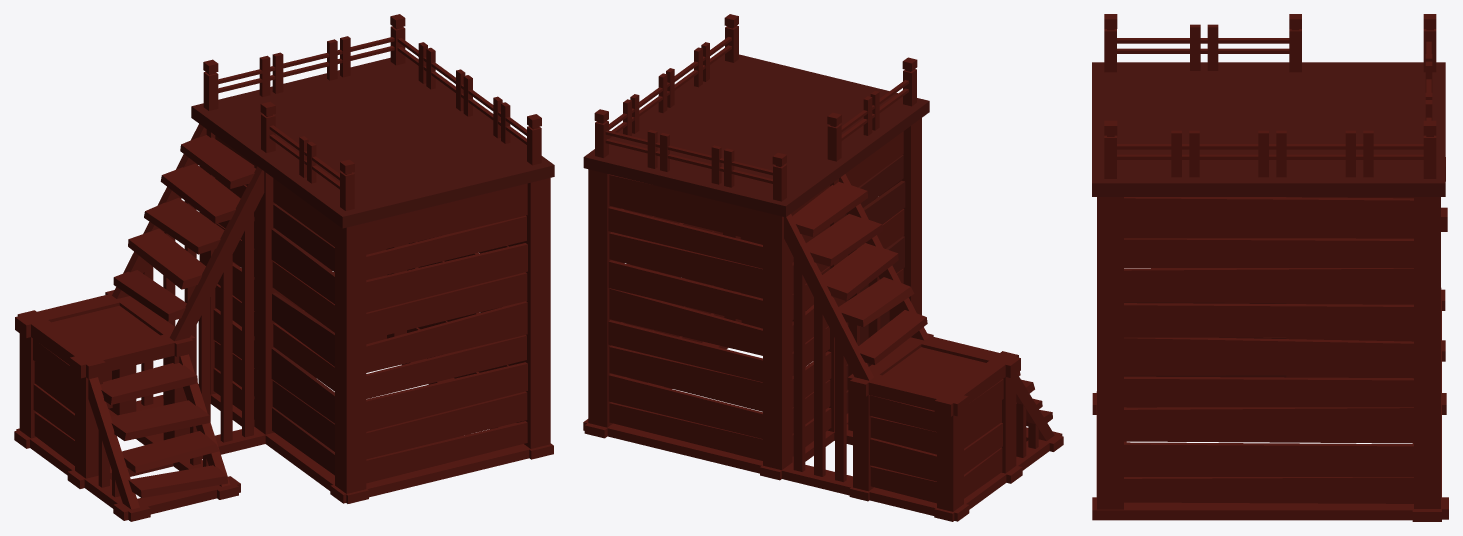
File: steps05.fbx
3 renders of one model, left to right at view 1: azimuth 30°, elevation 25°; view 2: azimuth 150°, elevation 25°; view 3: azimuth 270°, elevation 25°, orthographic. The views are drawn at different scales.
Parts seen in each view (by area): view 1: steps05; view 2: steps05; view 3: steps05.
Boxes of the visible parts, x1,y1,x2,y2 form: steps05: (14, 14, 554, 521); steps05: (583, 14, 1063, 521); steps05: (1092, 14, 1448, 521).
Size of the model in its own units: 791 by 641 by 530.
